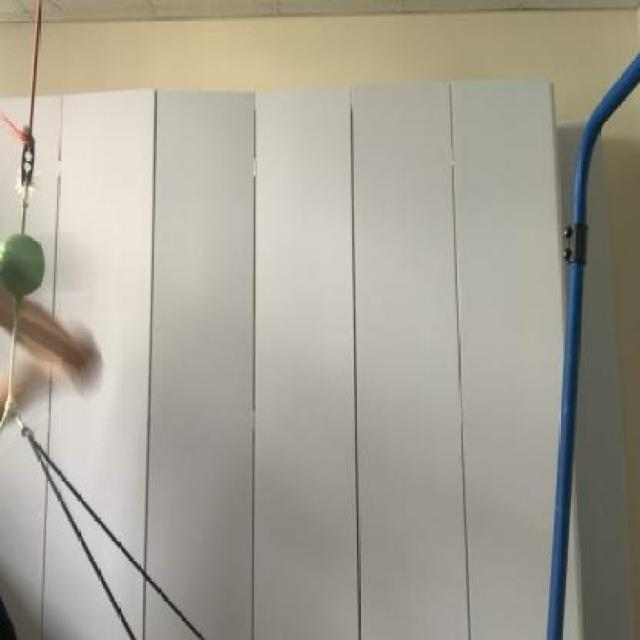baseball: (0, 227, 54, 299)
